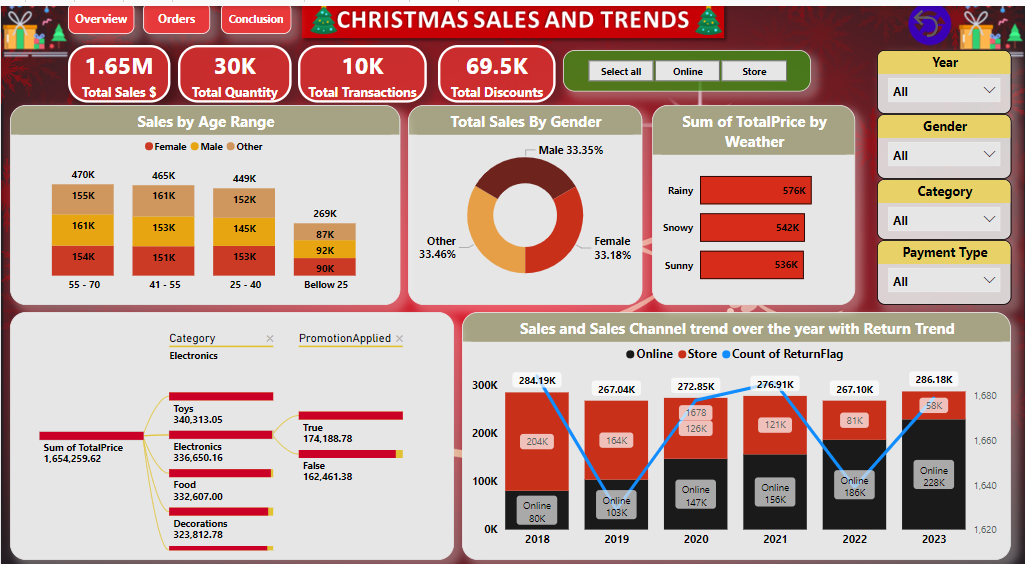

What the dashboard file says about the page in this screenshot:
{"tool":"powerbi","page":{"name":"Dashboard-1","canvas":[1280,720],"ordinal":0},"visuals":[{"type":"card","fields":{"Values":["Sum(Christmas Sales and Trends (Aut.TotalPrice)"]},"box":[83.9,67.1,127.7,72.3],"z":0},{"type":"card","fields":{"Values":["Sum(Christmas Sales and Trends (Aut.Quantity)"]},"box":[220.6,67.1,141.9,72.3],"z":1000},{"type":"card","fields":{"Values":["CountNonNull(Christmas Sales and Trends (Aut.TransactionID)"]},"box":[371.6,67.1,161.3,72.3],"z":2000},{"type":"card","fields":{"Values":["Sum(Christmas Sales and Trends (Aut.DiscountAmount)"]},"box":[545.8,67.1,147.1,72.3],"z":3000},{"type":"slicer","fields":{"Values":["Christmas Sales and Trends (Aut.OnlineOrderFlag"]},"box":[701.9,74.3,309.7,52.3],"z":4000},{"type":"slicer","title":"Year","fields":{"Values":["Christmas Sales and Trends (Aut.Date.Variation.Date Hierarchy.Year"]},"box":[1095.6,74.3,167.9,79.8],"z":5000},{"type":"slicer","title":"Gender","fields":{"Values":["Christmas Sales and Trends (Aut.Gender"]},"box":[1095.6,154.2,167.9,81.2],"z":6000},{"type":"slicer","title":"Category","fields":{"Values":["Christmas Sales and Trends (Aut.Category"]},"box":[1095.6,235.4,167.9,75.7],"z":7000},{"type":"slicer","title":"Payment Type","fields":{"Values":["Christmas Sales and Trends (Aut.PaymentType"]},"box":[1095.6,311.1,167.9,81.2],"z":8000},{"type":"donutChart","title":"Total Sales By Gender","fields":{"Y":["Sum(Christmas Sales and Trends (Aut.TotalPrice)"],"Category":["Christmas Sales and Trends (Aut.Gender"]},"box":[508.4,141.9,292.9,250.3],"z":9000},{"type":"lineStackedColumnComboChart","title":"Sales and Sales Channel trend over the year with Return Trend","fields":{"Y":["Sum(Christmas Sales and Trends (Aut.TotalPrice)"],"Category":["Christmas Sales and Trends (Aut.Date.Variation.Date Hierarchy.Year"],"Series":["Christmas Sales and Trends (Aut.OnlineOrderFlag"],"Y2":["CountNonNull(Christmas Sales and Trends (Aut.ReturnFlag)"]},"box":[576.8,401.3,686.5,309.7],"z":10000},{"type":"decompositionTreeVisual","fields":{"Analyze":["Sum(Christmas Sales and Trends (Aut.TotalPrice)"],"ExplainBy":["Christmas Sales and Trends (Aut.Category","Christmas Sales and Trends (Aut.PromotionApplied"]},"box":[11.6,401.3,554.8,309.7],"z":11000},{"type":"columnChart","title":"Sales by Age Range","fields":{"Y":["Sum(Christmas Sales and Trends (Aut.TotalPrice)"],"Category":["Christmas Sales and Trends (Aut.Age_group"],"Series":["Christmas Sales and Trends (Aut.Gender"]},"box":[11.6,141.9,487.7,250.3],"z":12000},{"type":"clusteredBarChart","fields":{"Category":["Christmas Sales and Trends (Aut.Weather"],"Y":["Sum(Christmas Sales and Trends (Aut.TotalPrice)"]},"box":[814.2,141.9,254.2,250.3],"z":13000},{"type":"actionButton","title":"Overview","box":[178.1,14.2,83.9,40],"z":13001},{"type":"actionButton","title":"Orders","box":[83.9,14.2,82.6,40],"z":13002},{"type":"actionButton","box":[274.8,14.2,87.7,40],"z":13003},{"type":"actionButton","box":[1134.2,14.2,45.2,52.9],"z":13004}]}

Visuals, with their boxes in screenshot pixels (x1, y1, x2, y2), scaled from the page's 1280x720 canvas onto the 1025x564 screenshot:
card - Sum(Christmas Sales and Trends (Aut.TotalPrice): x1=67, y1=53, x2=169, y2=109
card - Sum(Christmas Sales and Trends (Aut.Quantity): x1=177, y1=53, x2=290, y2=109
card - CountNonNull(Christmas Sales and Trends (Aut.TransactionID): x1=298, y1=53, x2=427, y2=109
card - Sum(Christmas Sales and Trends (Aut.DiscountAmount): x1=437, y1=53, x2=555, y2=109
slicer - Christmas Sales and Trends (Aut.OnlineOrderFlag: x1=562, y1=58, x2=810, y2=99
"Year" slicer: x1=877, y1=58, x2=1012, y2=121
"Gender" slicer: x1=877, y1=121, x2=1012, y2=184
"Category" slicer: x1=877, y1=184, x2=1012, y2=244
"Payment Type" slicer: x1=877, y1=244, x2=1012, y2=307
"Total Sales By Gender" donutChart: x1=407, y1=111, x2=642, y2=307
"Sales and Sales Channel trend over the year with Return Trend" lineStackedColumnComboChart: x1=462, y1=314, x2=1012, y2=557
decompositionTreeVisual - Sum(Christmas Sales and Trends (Aut.TotalPrice) x Christmas Sales and Trends (Aut.Category: x1=9, y1=314, x2=454, y2=557
"Sales by Age Range" columnChart: x1=9, y1=111, x2=400, y2=307
clusteredBarChart - Christmas Sales and Trends (Aut.Weather x Sum(Christmas Sales and Trends (Aut.TotalPrice): x1=652, y1=111, x2=856, y2=307
"Overview" actionButton: x1=143, y1=11, x2=210, y2=42
"Orders" actionButton: x1=67, y1=11, x2=133, y2=42
actionButton: x1=220, y1=11, x2=290, y2=42
actionButton: x1=908, y1=11, x2=944, y2=53
